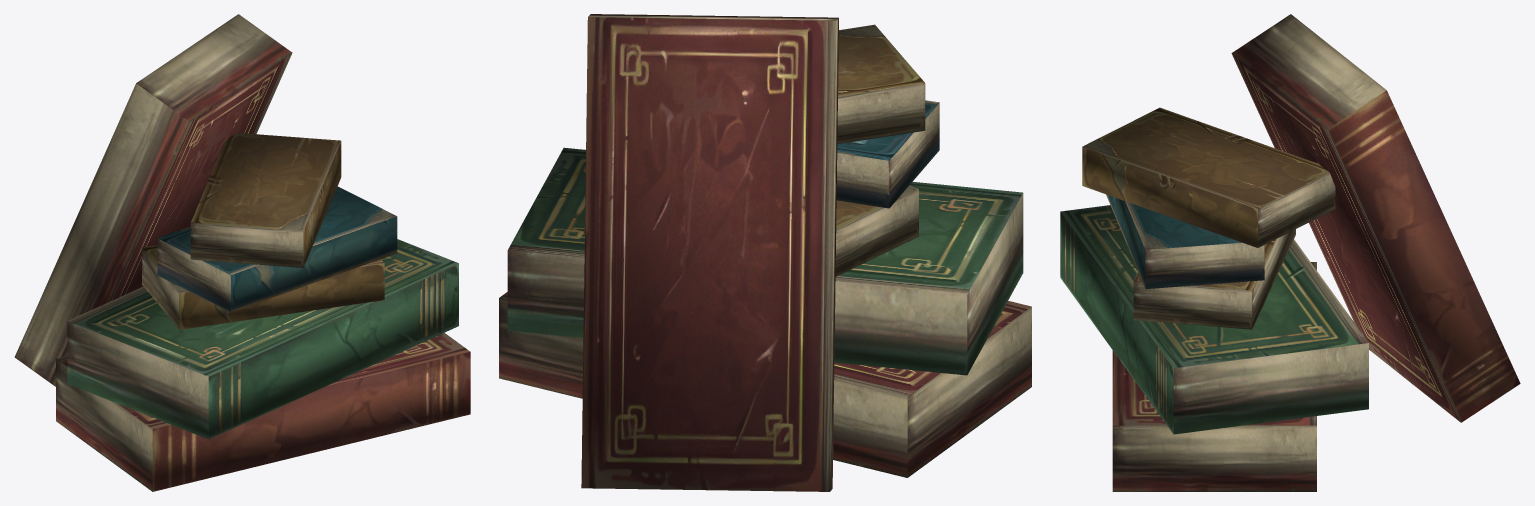
Rendered from generalbookstacktall01.obj.
3 views of the same model, side by side, from view 1: azimuth 30°, elevation 25°; view 2: azimuth 150°, elevation 25°; view 3: azimuth 270°, elevation 25° (orthographic). The views are drawn at different scales.
Visible parts, largest first — view 1: generalbookstacktall01; view 2: generalbookstacktall01; view 3: generalbookstacktall01.
Part boxes in pixels (box(x1,y1,x2,y2)): generalbookstacktall01: box(14, 14, 470, 491); generalbookstacktall01: box(499, 14, 1031, 491); generalbookstacktall01: box(1060, 14, 1520, 491).
Size of the model in its own units: 0.7949 by 0.7118 by 0.8498.
Materials: 1 (1 with a texture image).
